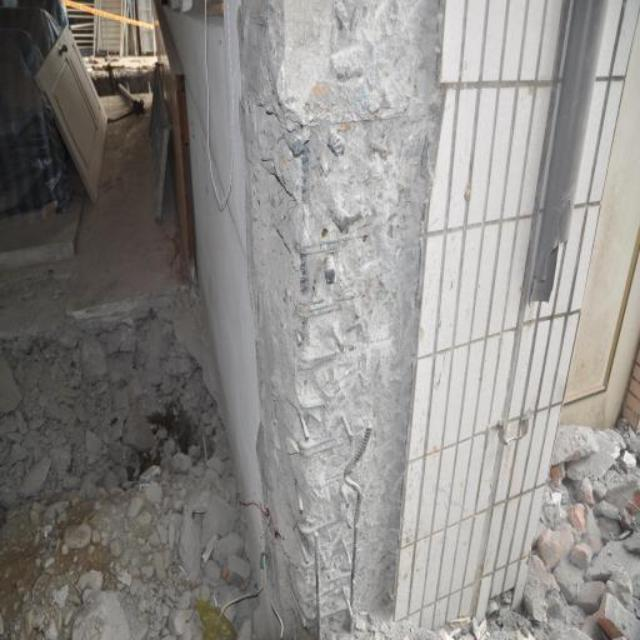D0w0: (234, 10, 445, 639)
